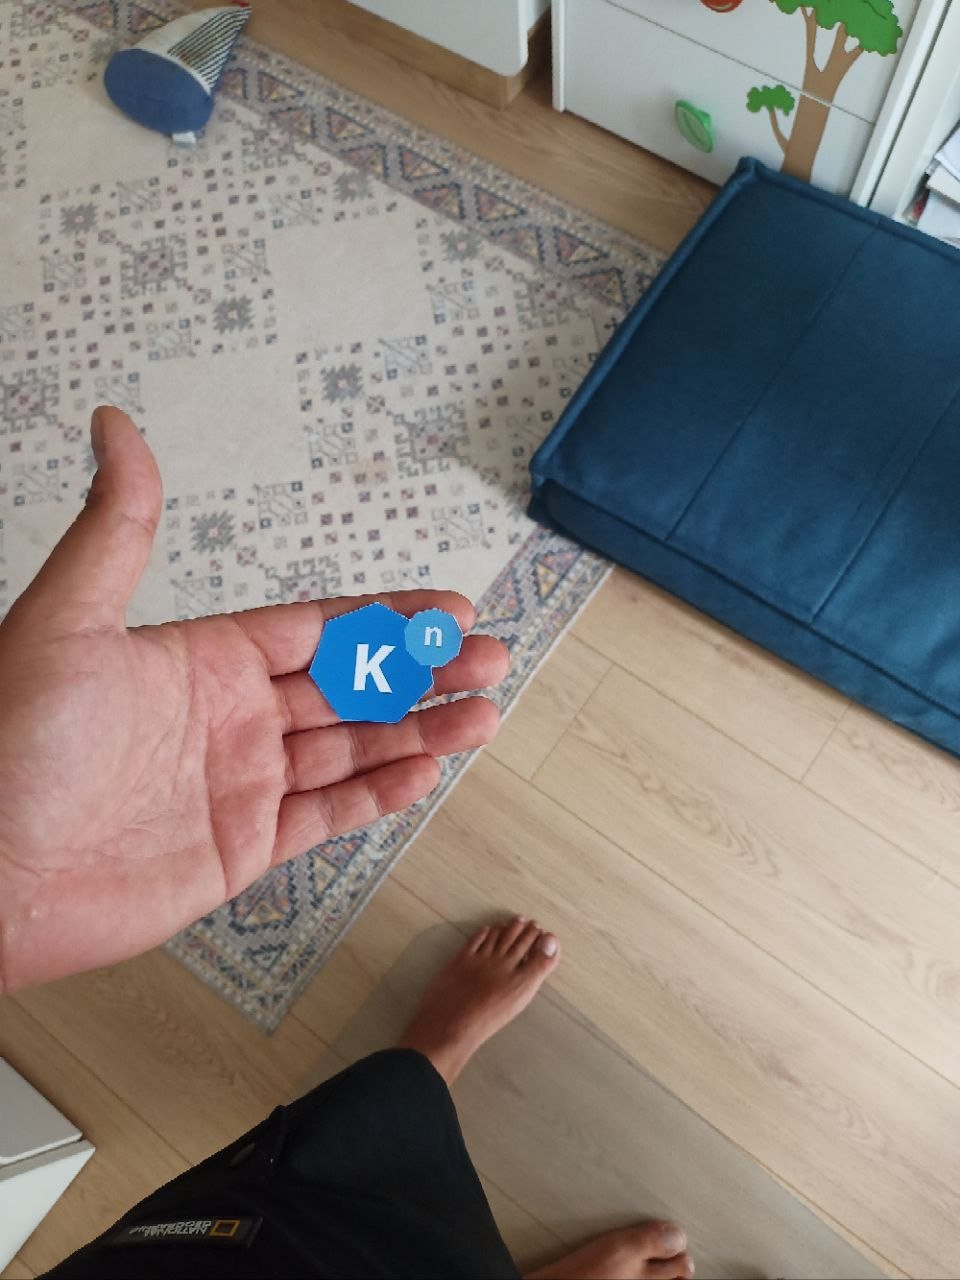knative: (308, 599, 465, 724)
